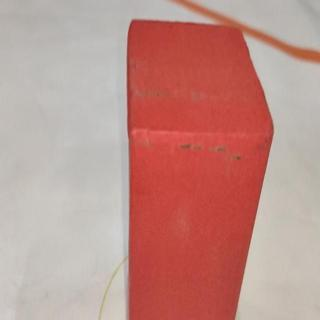redbox: (130, 23, 239, 320)
